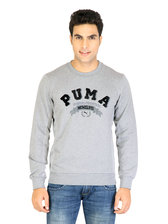clothoes: (25, 59, 142, 193)
